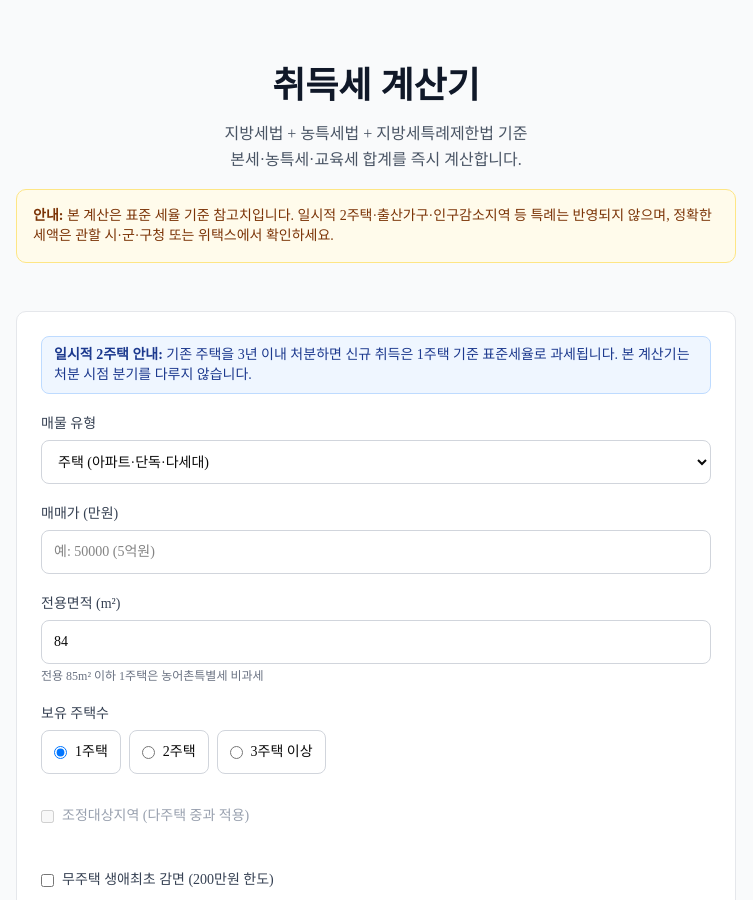
Test: /tools/acquisition-tax 페이지 › 생애최초 비활성 시 aria-describedby 가 사유 p 와 연결, 활성 시 미연결
오피스텔 선택 → 비활성 + describedby 가 사유 p 의 id 를 가리킴
Select "오피스텔·상가 (4.6%)" in the dropdown labelled "매물 유형" at x=376, y=462, box left=41, top=440, right=711, bottom=484
(page scrolled)
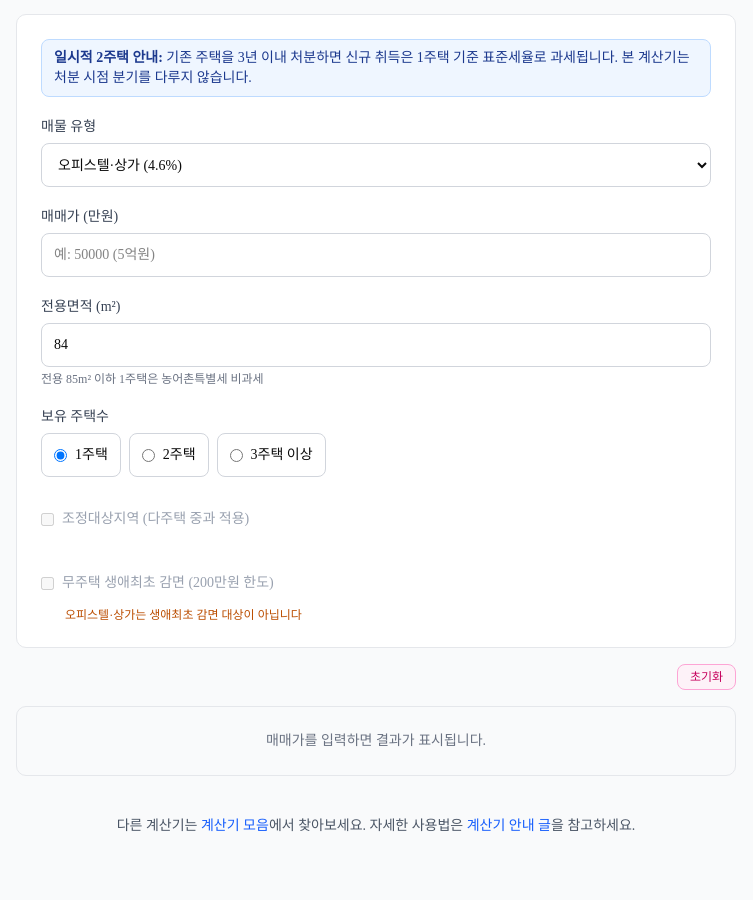
Result: the text with id "first-time-disabled-reason" reads "오피스텔·상가는 생애최초 감면 대상이 아닙니다" at left=65, top=608, right=302, bottom=622
